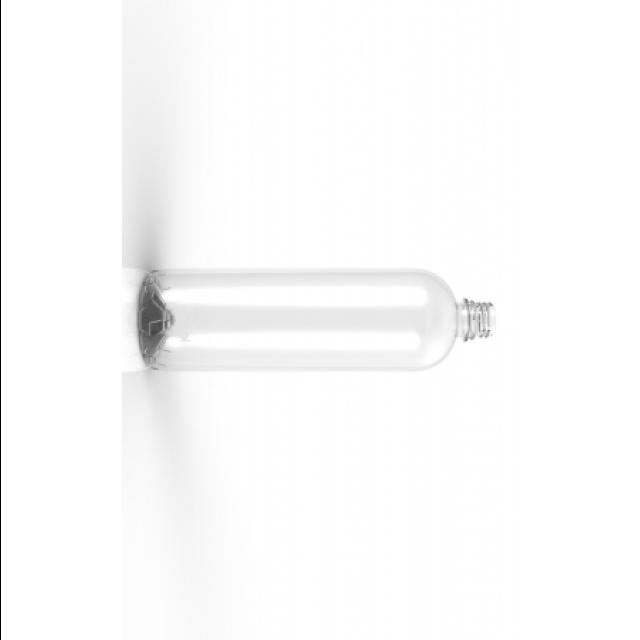bottom: (136, 262, 184, 372)
no_cap: (451, 292, 499, 350)
